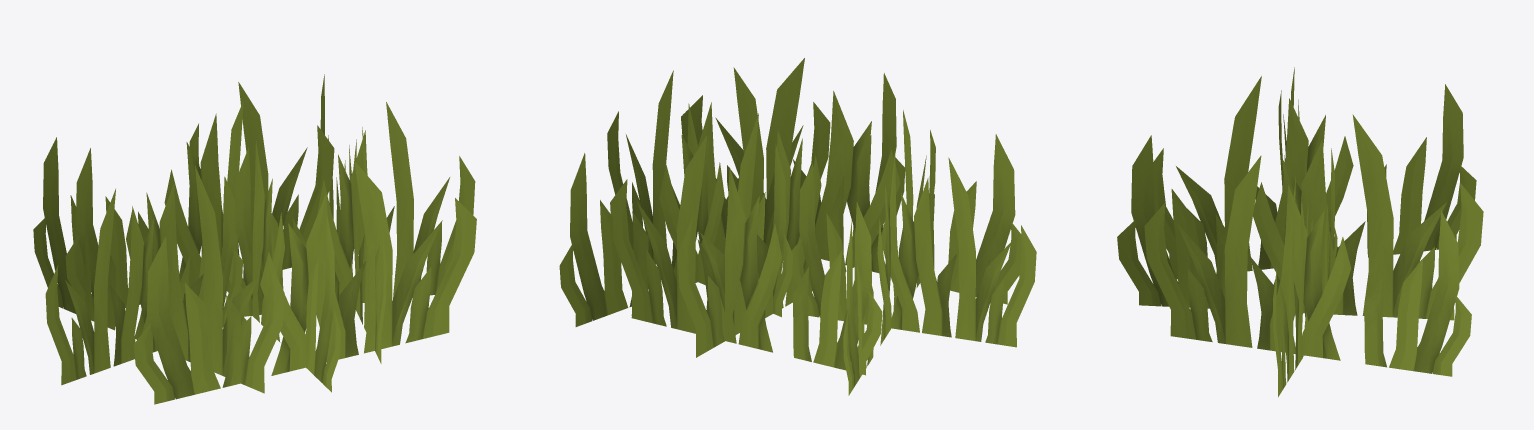
File: SM_Env_Grass_Clump_02.fbx
The picture shows the model from 3 angles, left to right: view 1: azimuth 30°, elevation 25°; view 2: azimuth 150°, elevation 25°; view 3: azimuth 270°, elevation 25°; orthographic projection. The views are drawn at different scales.
Parts seen in each view (by area): view 1: SM_Env_Grass_Clump_02_LOD0; view 2: SM_Env_Grass_Clump_02_LOD0; view 3: SM_Env_Grass_Clump_02_LOD0.
Part boxes in pixels (x1,y1,x2,y2): SM_Env_Grass_Clump_02_LOD0: (33, 74, 476, 404); SM_Env_Grass_Clump_02_LOD0: (559, 58, 1036, 395); SM_Env_Grass_Clump_02_LOD0: (1117, 67, 1483, 397).
Size of what is drawn, in the model's own units: 130 by 55.89 by 106.
